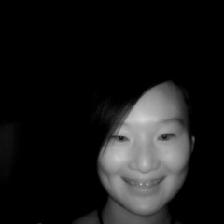happy: (84, 73, 200, 219)
